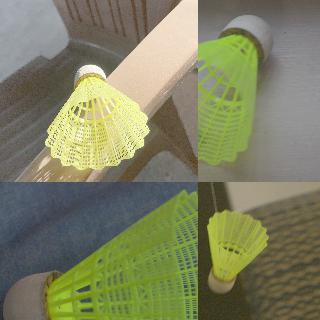shuttlecock: (2, 190, 197, 319), (198, 15, 273, 166), (45, 64, 149, 170), (206, 210, 266, 292)
